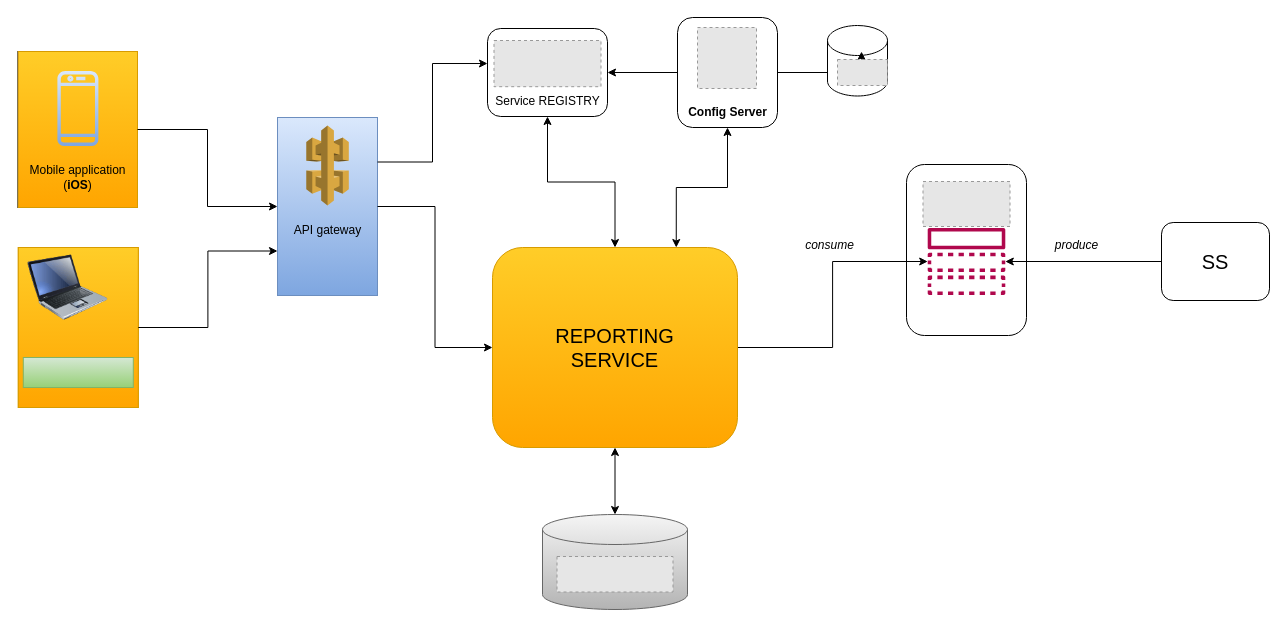
Some shapes in this 1287 by 627 pixel diagram are drawn without their labels. Grey dashed boxes stand in for pictures. Each missing label, with the centre of its shape:
"SS_..." goes at point 966,261.
"Web application" goes at point 77,372.
